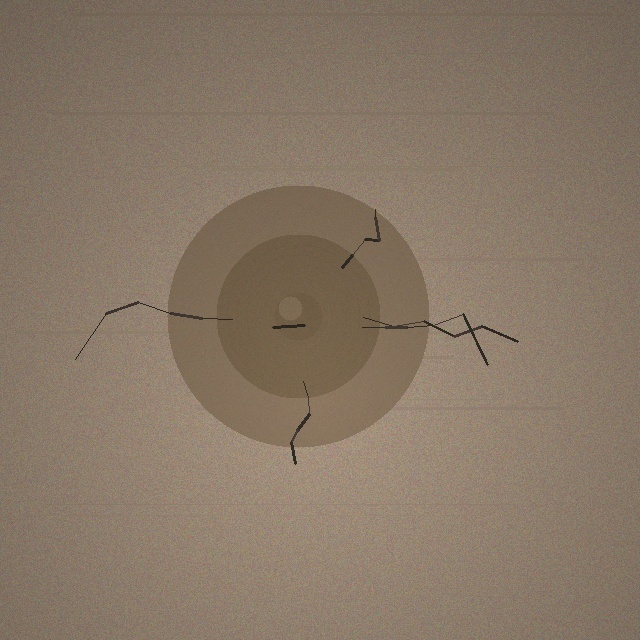crack: (167, 185, 429, 447)
